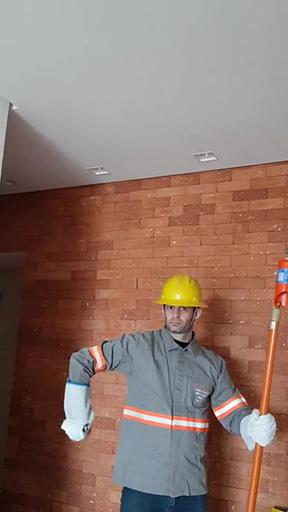Vara_Manobra: (246, 308, 282, 512)
